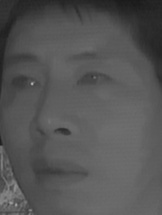eye: (76, 68, 114, 92), (9, 72, 43, 94)
mouth: (27, 152, 90, 191)
